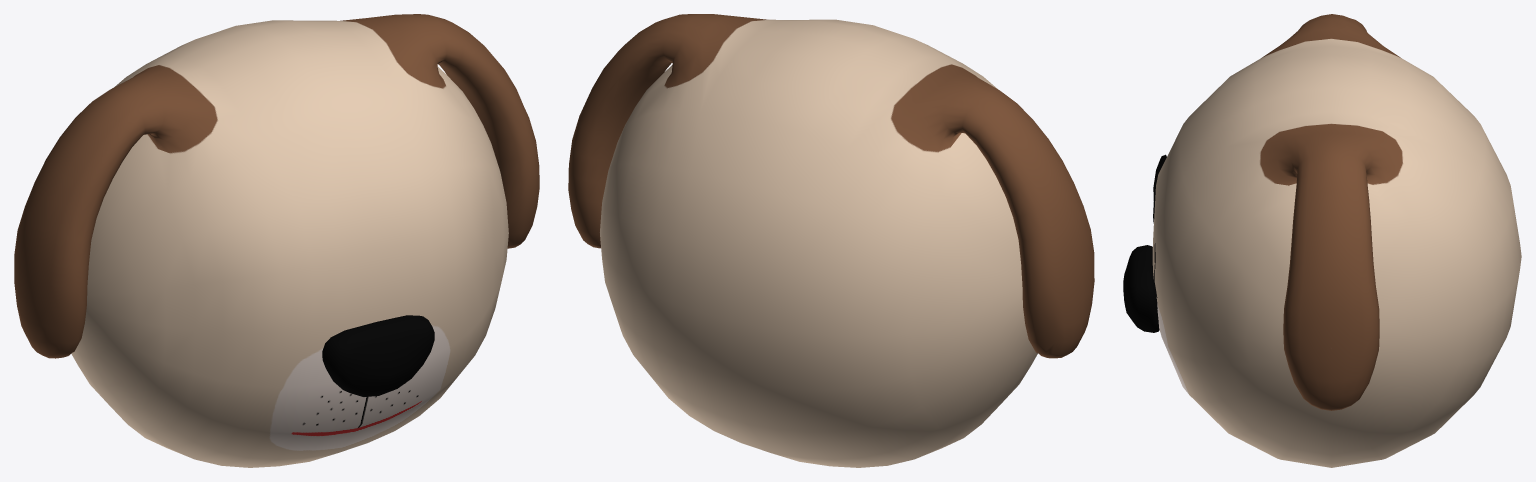
File: dog.fbx
3 renders of one model, left to right at view 1: azimuth 30°, elevation 25°; view 2: azimuth 150°, elevation 25°; view 3: azimuth 270°, elevation 25°, orthographic. The views are drawn at different scales.
Parts seen in each view (by area): view 1: polySurface4, polySurface5; view 2: polySurface4; view 3: polySurface4, polySurface5.
Part boxes in pixels (bbox=[...]): polySurface4: bbox=[14, 14, 539, 467]; polySurface5: bbox=[322, 315, 434, 396]; polySurface4: bbox=[568, 14, 1094, 467]; polySurface4: bbox=[1152, 14, 1521, 467]; polySurface5: bbox=[1123, 245, 1159, 332].
Bounding box in the file's own units: 2.49 × 1.94 × 1.87.
2 materials, 2 textured.
